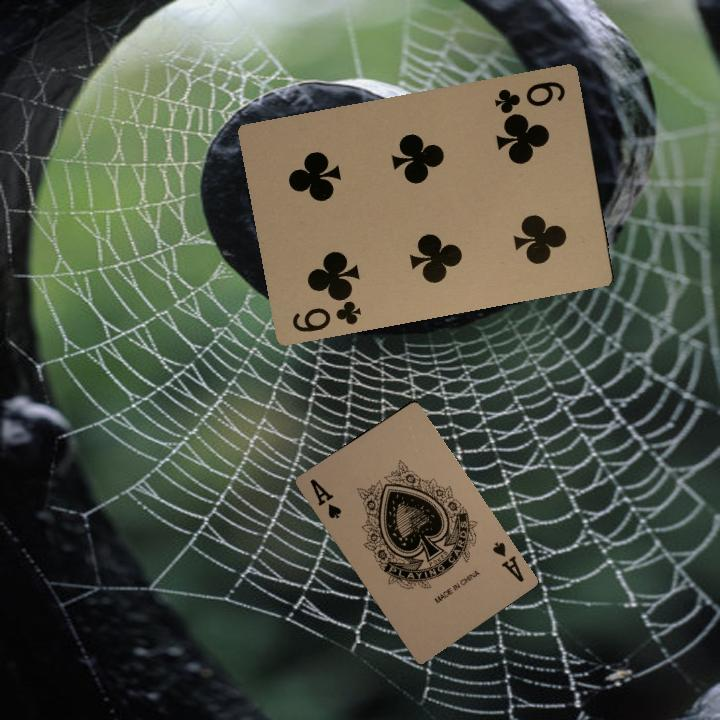6c: (288, 288, 364, 335), (490, 77, 568, 118)
As: (488, 538, 527, 585), (306, 474, 344, 521)
